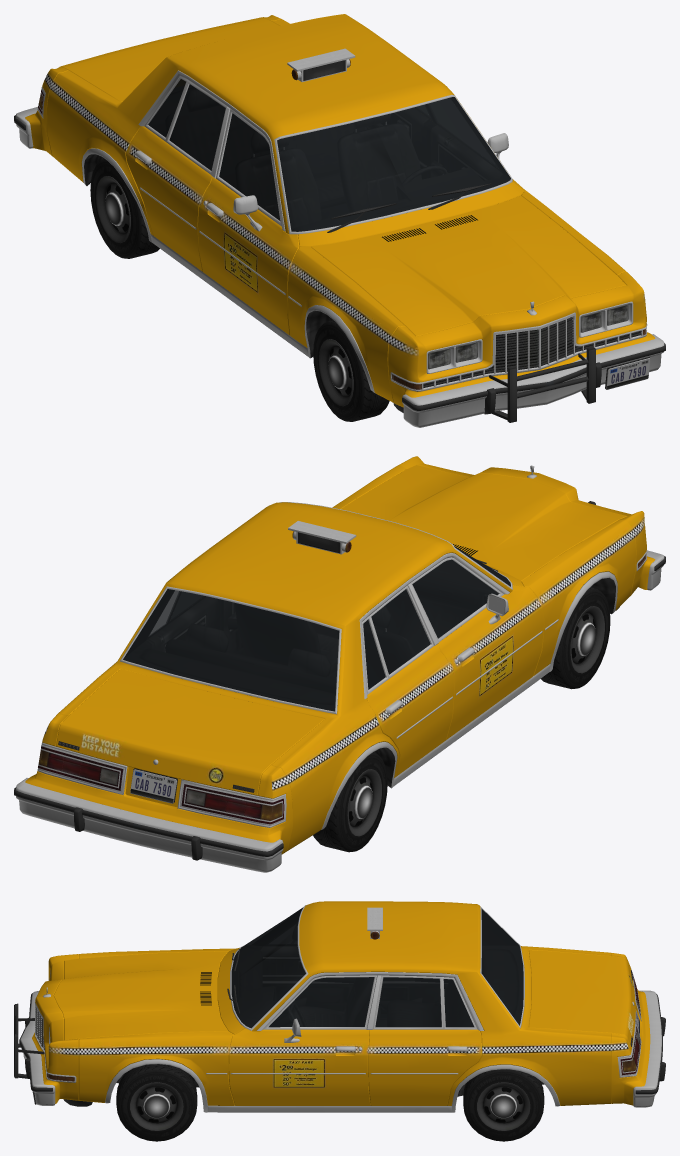
File: negotiator-80-taxi-low-poly-model-436ee9.glb
The picture shows the model from 3 angles, top to bottom: view 1: azimuth 30°, elevation 25°; view 2: azimuth 150°, elevation 25°; view 3: azimuth 270°, elevation 25°; orthographic projection. The views are drawn at different scales.
Parts seen in each view (by area): view 1: body, wheel-front-right, wheel-back-right; view 2: body, wheel-back-right, wheel-front-right, wheel-back-left; view 3: body, wheel-front-left, wheel-back-left.
Boxes of the visible parts, x1,y1,x2,y2 form: body: [14, 14, 665, 427]; wheel-front-right: [313, 320, 389, 421]; wheel-back-right: [90, 158, 159, 258]; body: [14, 456, 665, 872]; wheel-back-right: [205, 752, 387, 852]; wheel-front-right: [541, 587, 610, 689]; wheel-back-left: [48, 753, 99, 780]; body: [14, 901, 665, 1112]; wheel-front-left: [116, 1064, 197, 1141]; wheel-back-left: [463, 1039, 639, 1141].
Bounding box in the file's own units: 1.87 × 1.49 × 4.98.
Materials: 8 (8 with a texture image).
